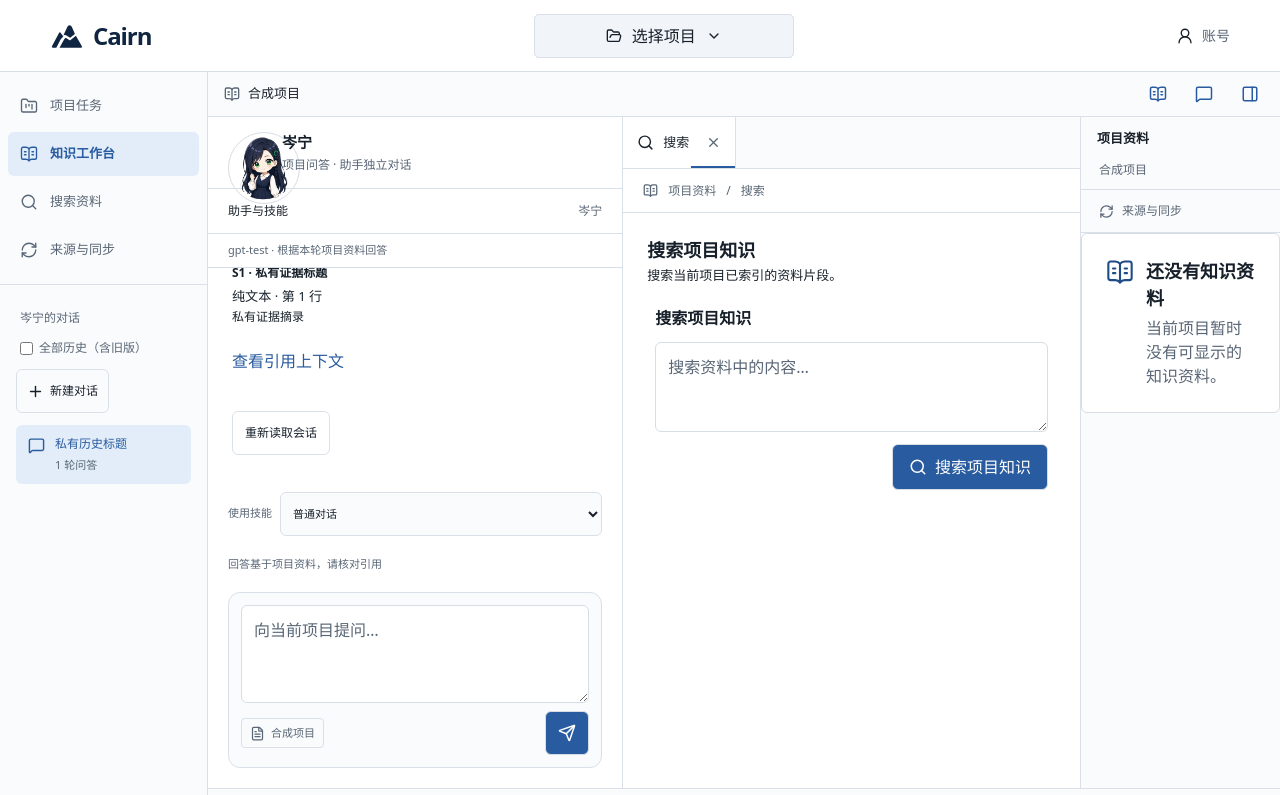
Test case: conversation-only404 keeps authorized project titles in shell history
(page scrolled)
Click the button "重新读取会话": (281, 433) x1=232 y1=411 x2=330 y2=455
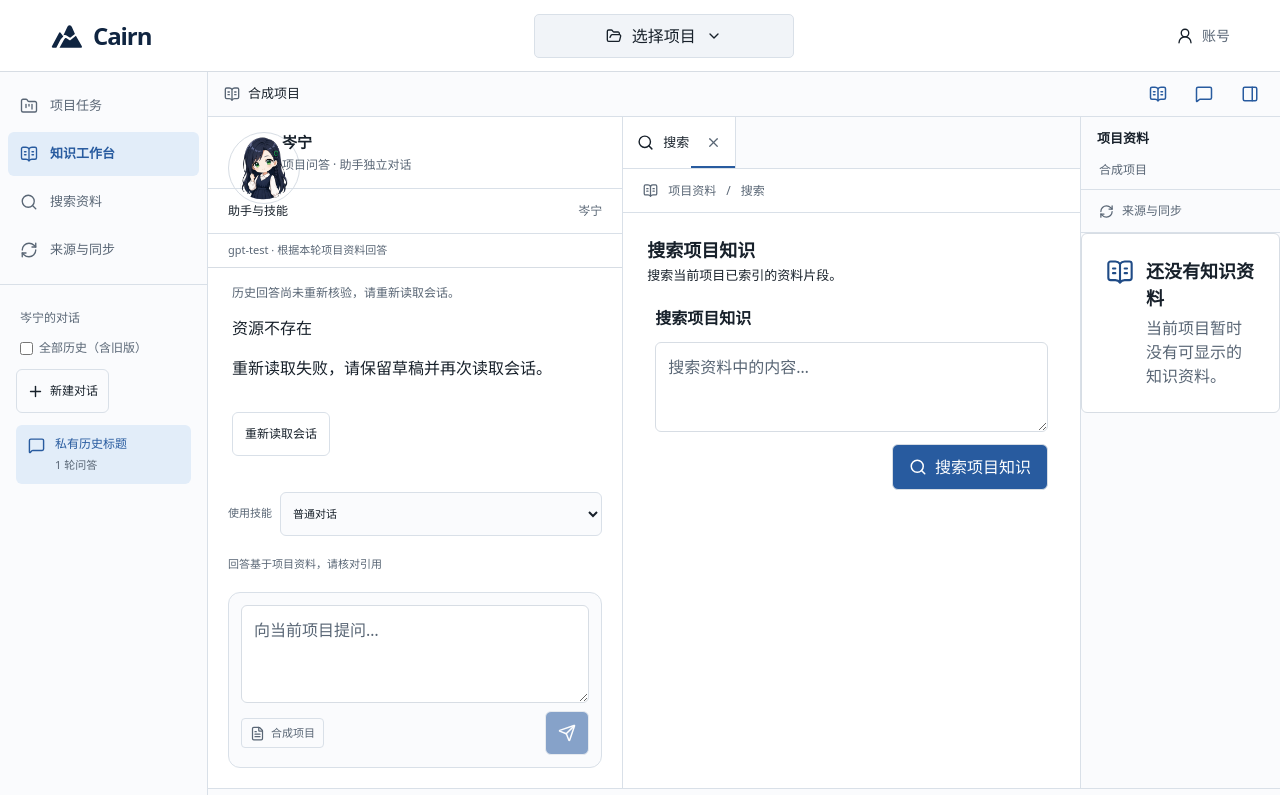
Expected: the text "私有历史标题" is shown, x1=55 y1=435 x2=127 y2=452
Expected: the text "重新读取失败，请保留草稿并再次读取会话。" is shown, x1=232 y1=356 x2=598 y2=380
